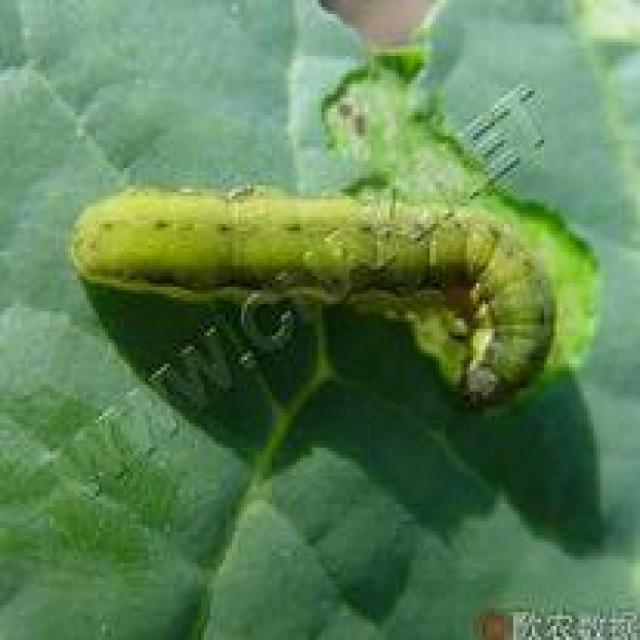BeetArmyWorm-Larva-: (37, 171, 580, 424)
